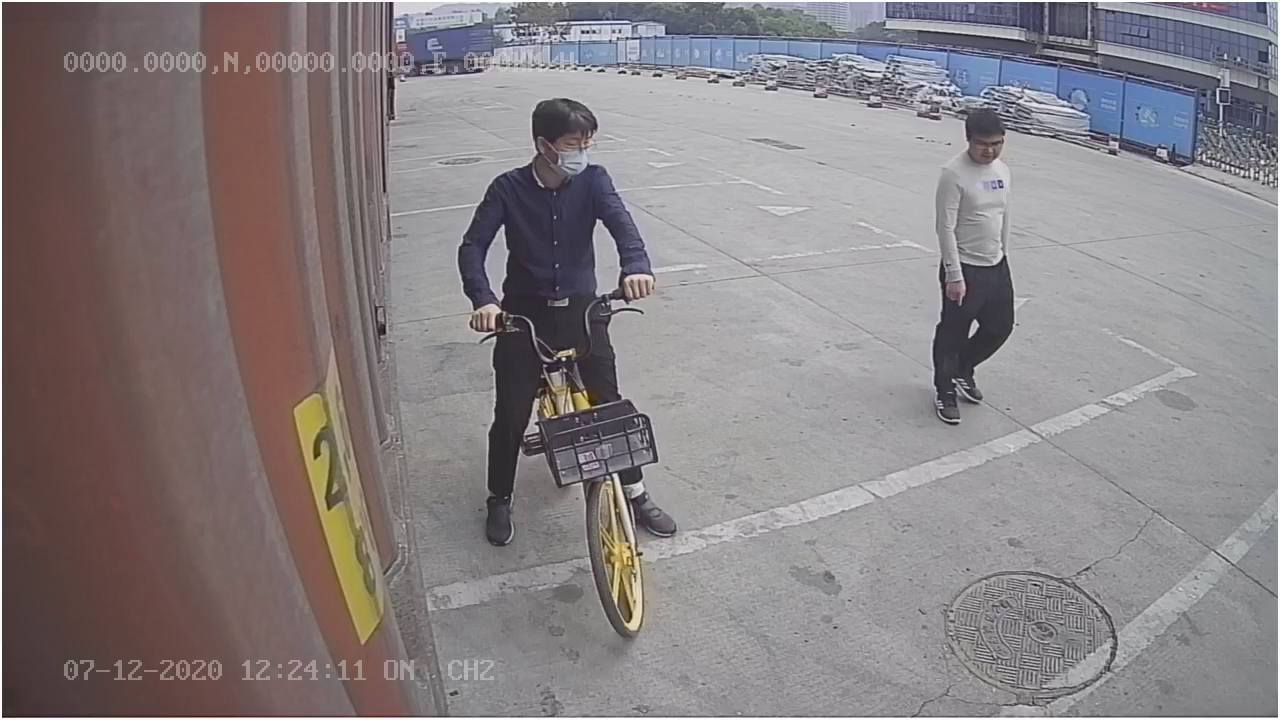person: (922, 101, 1020, 436)
